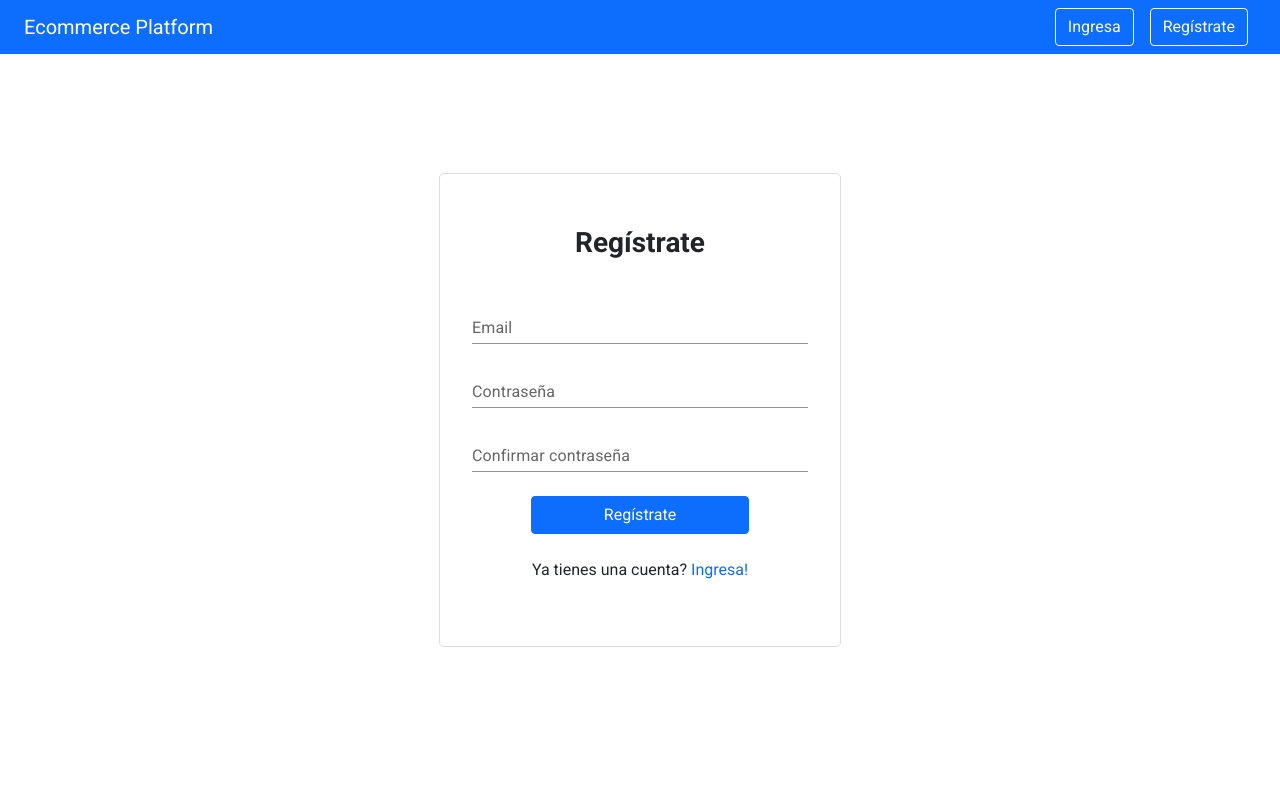
Sign up page › validates form - empty
Click the button "Regístrate" below "Confirmar contraseña": [640, 515] box 531,496 -> 749,534
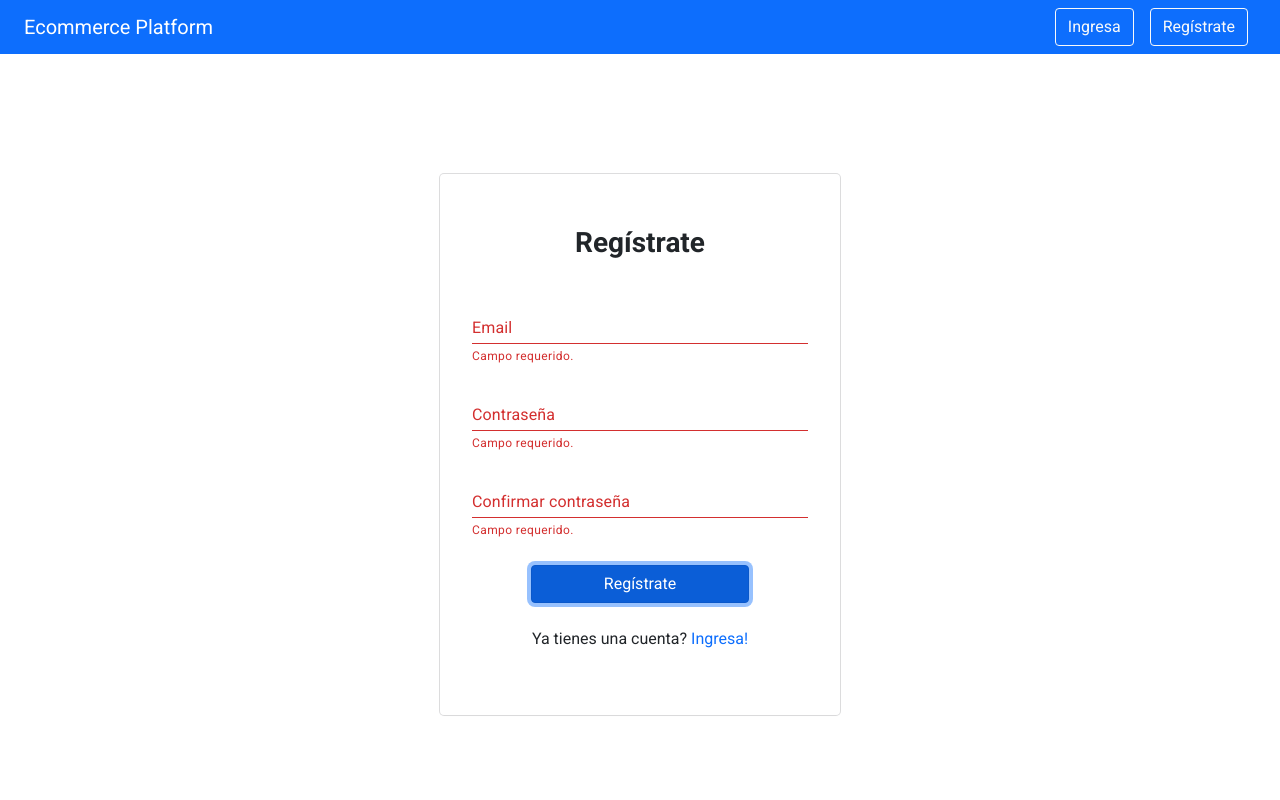
Result: the text "Campo requerido." is shown 3 times at 472,349 -> 574,363; 472,436 -> 574,450; 472,523 -> 574,537
